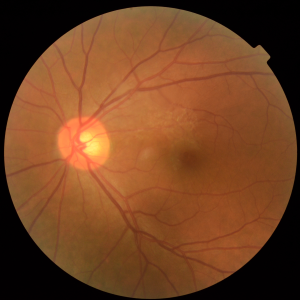retina_disease: (37, 94, 243, 218)
